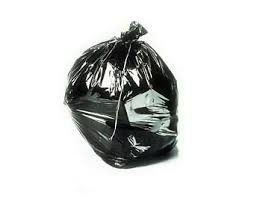Trash: (56, 24, 185, 169)
